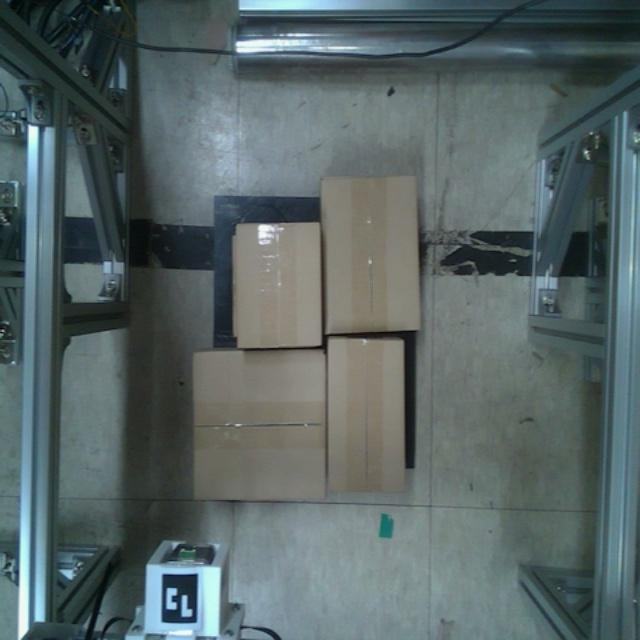box: (190, 349, 327, 503), (317, 173, 424, 337), (325, 337, 407, 496), (234, 221, 326, 351)
